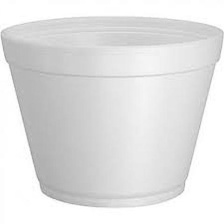paper_cup: (0, 9, 224, 212)
